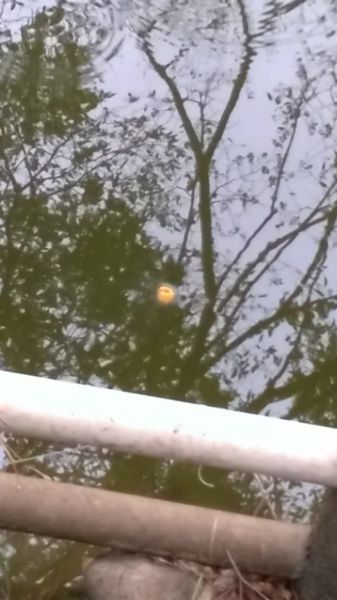eggs: (153, 282, 179, 306)
